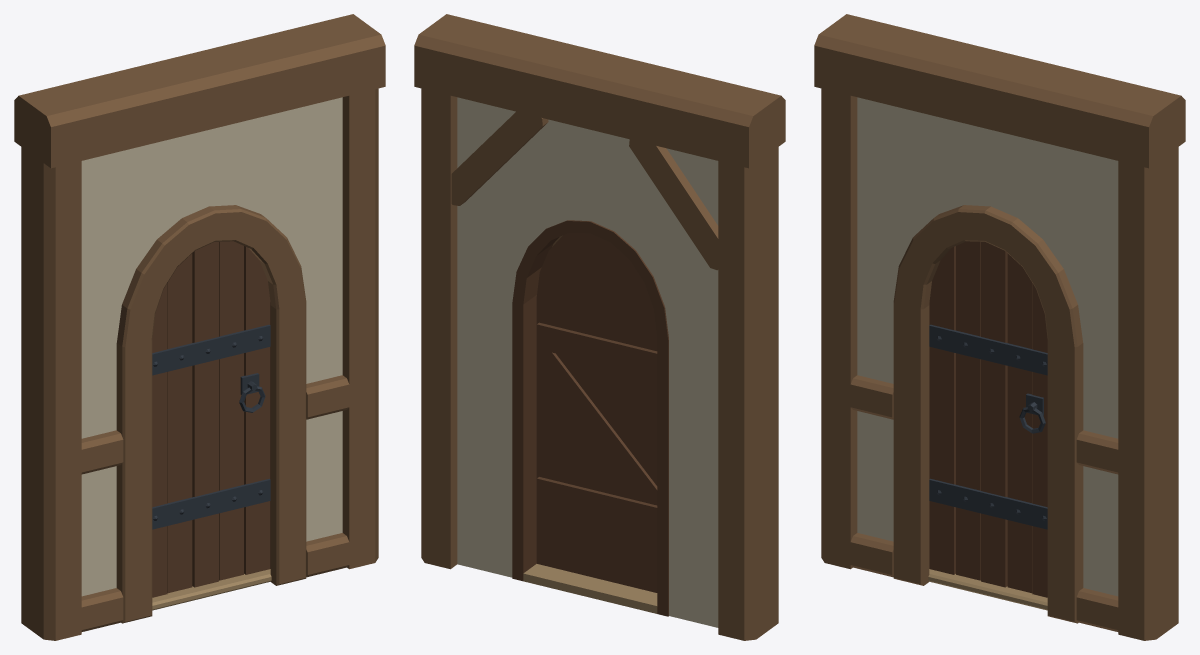
File: stage0_wall_with_door.glb
3 views of the same model, side by side, from view 1: azimuth 30°, elevation 25°; view 2: azimuth 150°, elevation 25°; view 3: azimuth 330°, elevation 25° (orthographic).
Visible parts, largest first — view 1: wall-shell, door-leaf; view 2: wall-shell, door-leaf; view 3: wall-shell, door-leaf.
Part boxes in pixels (x1,y1,x2,y2): wall-shell: (14, 14, 385, 640); door-leaf: (152, 241, 270, 597); wall-shell: (414, 14, 785, 640); door-leaf: (536, 232, 657, 592); wall-shell: (814, 14, 1185, 640); door-leaf: (929, 241, 1047, 597).
Size of the model in its own units: 2 by 3 by 0.38.
